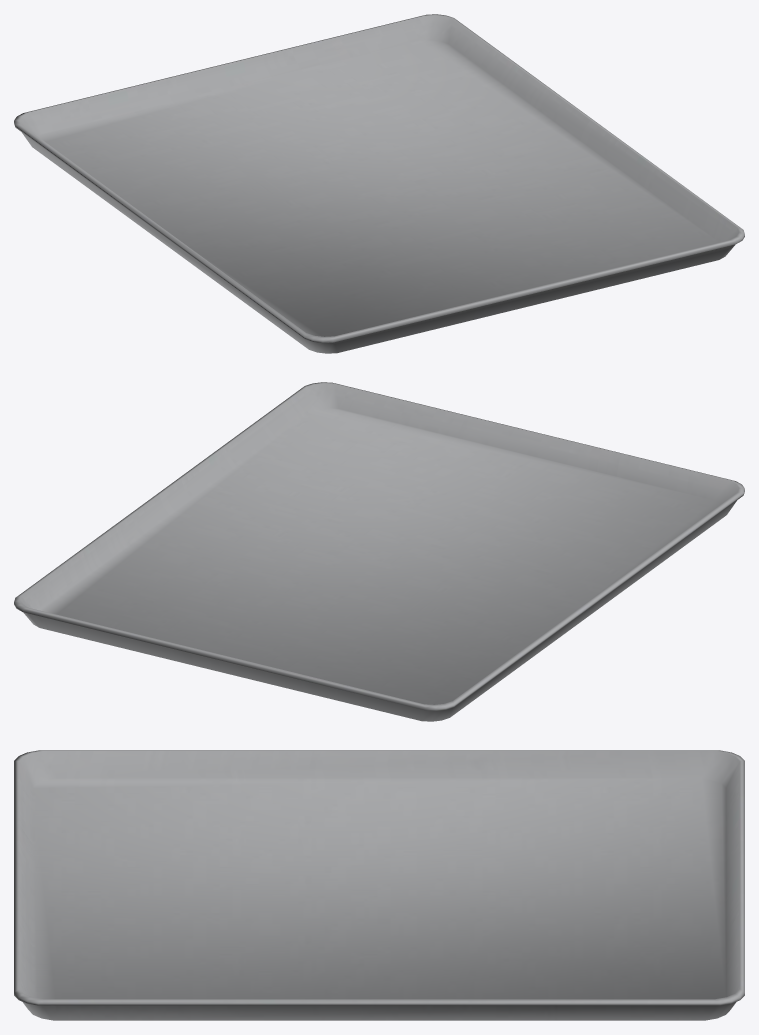
Rendered from SM_Baking_Tray_01.glb.
The picture shows the model from 3 angles, top to bottom: view 1: azimuth 30°, elevation 25°; view 2: azimuth 150°, elevation 25°; view 3: azimuth 270°, elevation 25°; orthographic projection. The views are drawn at different scales.
Visible parts, largest first — view 1: SM_Baking_Tray_01; view 2: SM_Baking_Tray_01; view 3: SM_Baking_Tray_01.
Part boxes in pixels (box(x1,y1,x2,y2)): SM_Baking_Tray_01: box(14, 14, 744, 353); SM_Baking_Tray_01: box(14, 382, 744, 721); SM_Baking_Tray_01: box(14, 750, 744, 1020).
Bounding box in the file's own units: 0.5261 × 0.0246 × 0.6438.
Materials: 1 (1 with a texture image).
